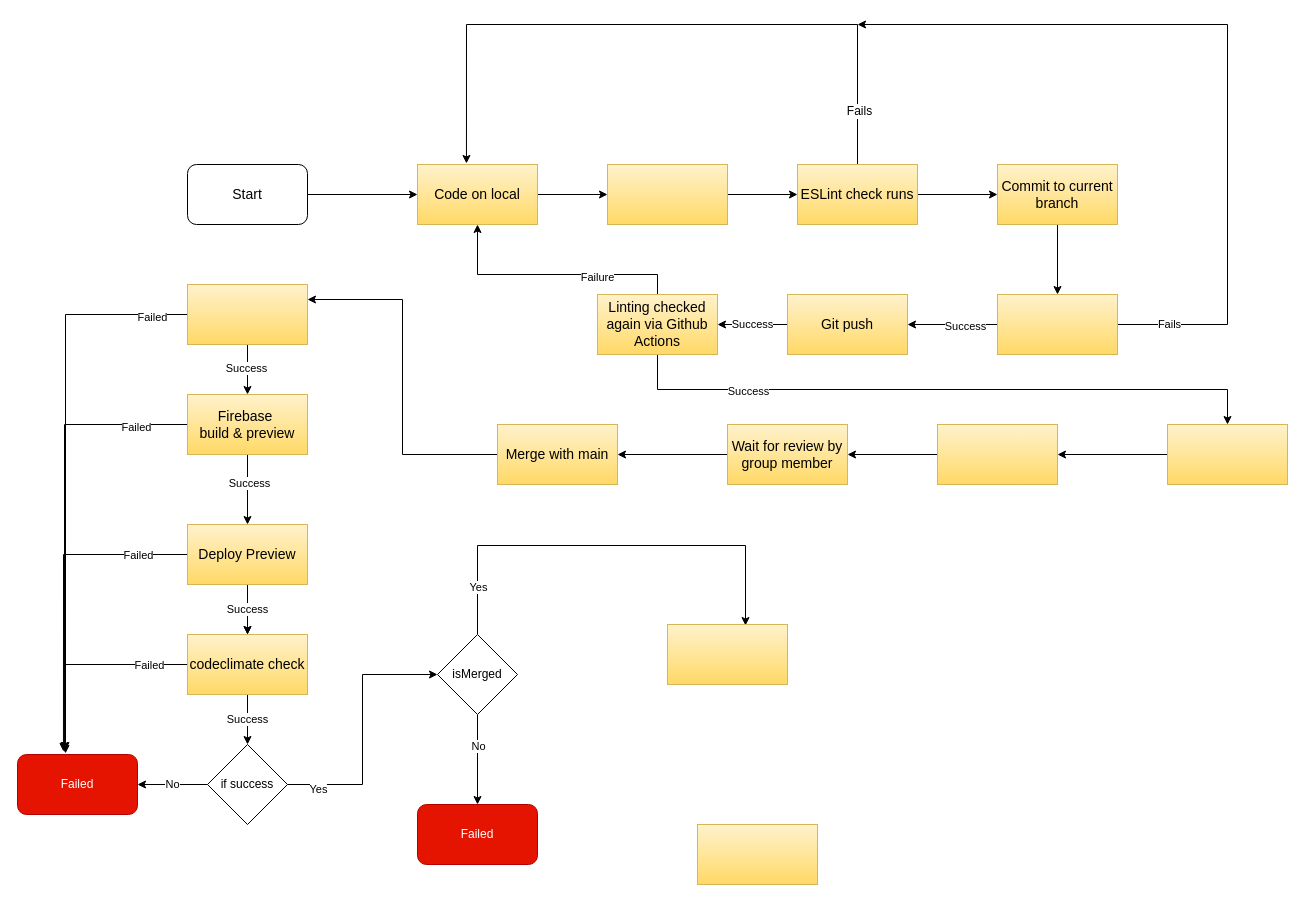
The diagram is 1305 pixels wide and 902 high, and some of its shapes have lost their labels. Here are the shapes that lost their labels. From the top down, the centre of each, then its label:
At point (667, 194): "Save local file".
At point (247, 314): "CI / build".
At point (1057, 324): "Pre-commit hook checks linting again".
At point (997, 454): "Wait for review by team member".
At point (1227, 454): "Create Pull request to update Main".
At point (727, 654): "JSDocs generation".
At point (757, 854): "Unit Testing (Work in progress)".
